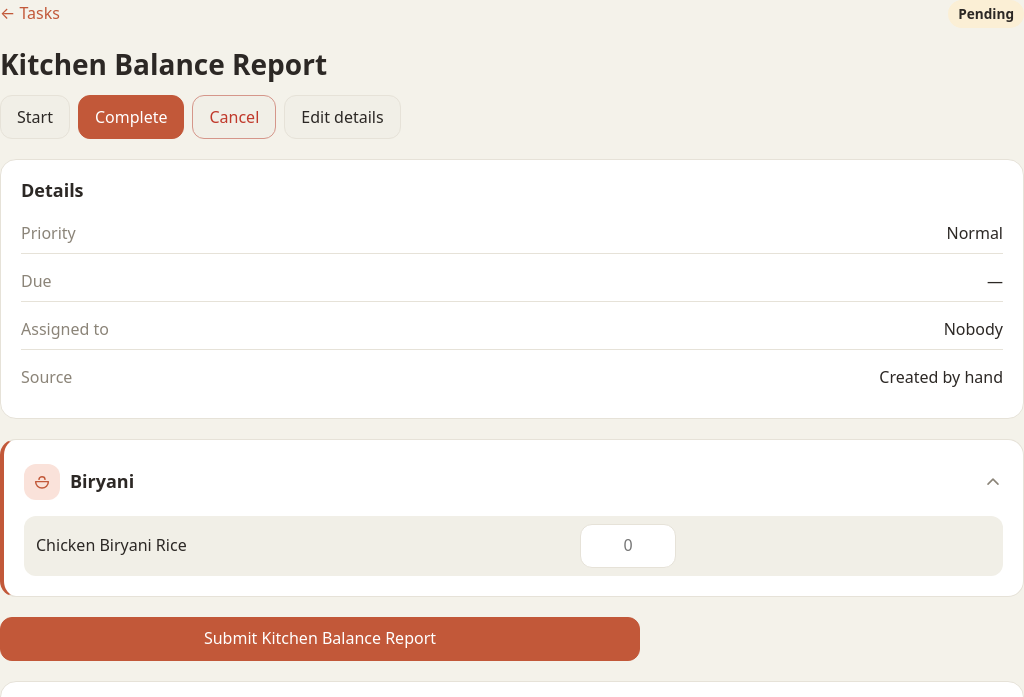
Scenario: Task detail and checklist › folds a section away when its header is tapped
Check: the field labelled "Chicken Biryani Rice" is shown, box [580,524,676,568]
Click the button "Biryani" at (42, 482), box [24,460,1003,504]
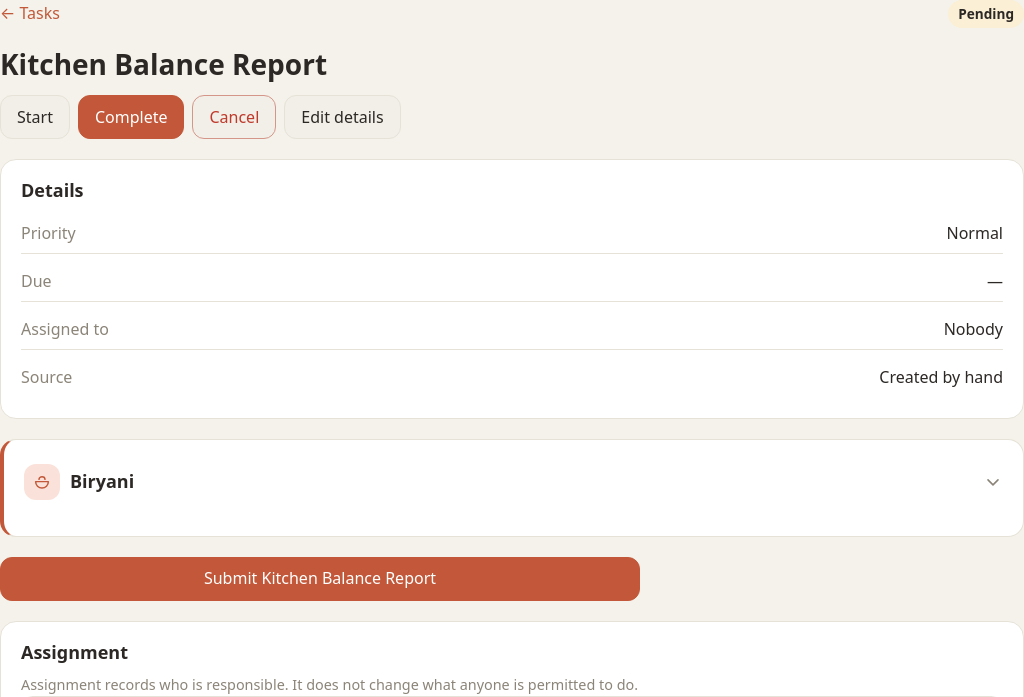
Check: the button "Biryani" is collapsed, box [24,460,1003,504]
Check: the label labelled "Chicken Biryani Rice" is gone
